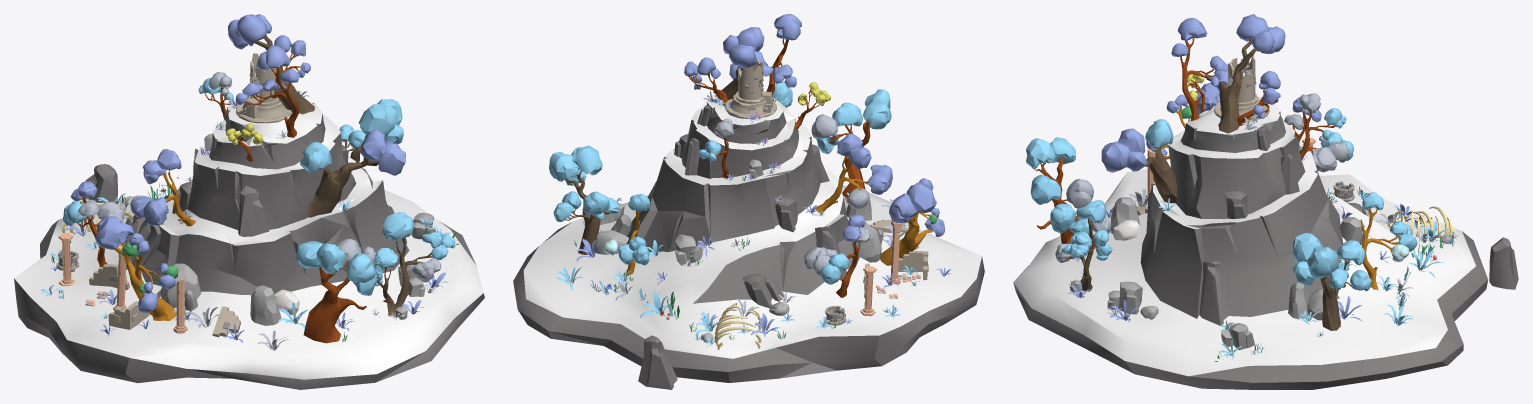
The model's file is islands4-B1gl973A.glb.
The picture shows the model from 3 angles, left to right: view 1: azimuth 30°, elevation 25°; view 2: azimuth 150°, elevation 25°; view 3: azimuth 270°, elevation 25°; orthographic projection. The views are drawn at different scales.
Visible parts, largest first — view 1: Plane.014_108, Cube.016_14, Cube.070_68, Cylinder.002_87, Mball.005_126, Mball.112_122, Mball.021_112, Mball.004_116, Cube.076_265, Mball.001_125, Icosphere.003_96, Mball.035_2 (+21 smaller); view 2: Plane.014_108, Cylinder.002_87, Mball.005_126, Cube.080_270, Mball.035_2, Mball.001_125, Mball.112_122, Mball.004_116, Cube.013_11, Mball.061_167, Cube.038_39, Cube.074_260 (+17 smaller); view 3: Plane.014_108, Mball.005_126, Cube.077_266, Mball.021_112, Cube.015_81, Mball.001_125, Cube.080_270, Cylinder.002_87, Mball.004_116, Mball.112_122, Cube.070_68, Cube.038_39 (+20 smaller).
Boxes of the visible parts, bbox=[...] form: Plane.014_108: bbox=[14, 100, 484, 389]; Cube.016_14: bbox=[303, 265, 366, 343]; Cube.070_68: bbox=[306, 157, 378, 217]; Cylinder.002_87: bbox=[236, 53, 291, 123]; Mball.005_126: bbox=[358, 99, 403, 143]; Mball.112_122: bbox=[236, 45, 299, 104]; Mball.021_112: bbox=[360, 129, 405, 175]; Mball.004_116: bbox=[296, 241, 345, 274]; Cube.076_265: bbox=[238, 186, 269, 236]; Mball.001_125: bbox=[228, 14, 271, 49]; Icosphere.003_96: bbox=[250, 285, 281, 325]; Mball.035_2: bbox=[95, 215, 133, 249]; Plane.014_108: bbox=[513, 91, 984, 382]; Cylinder.002_87: bbox=[725, 59, 776, 118]; Mball.005_126: bbox=[549, 145, 602, 185]; Cube.080_270: bbox=[638, 335, 677, 389]; Mball.035_2: bbox=[889, 182, 936, 222]; Mball.001_125: bbox=[723, 27, 764, 68]; Mball.112_122: bbox=[763, 14, 801, 87]; Mball.004_116: bbox=[863, 89, 891, 129]; Cube.013_11: bbox=[880, 211, 933, 265]; Mball.061_167: bbox=[837, 134, 871, 168]; Cube.038_39: bbox=[565, 170, 609, 254]; Cube.074_260: bbox=[742, 274, 772, 308]; Plane.014_108: bbox=[1013, 99, 1488, 389]; Mball.005_126: bbox=[1292, 233, 1338, 285]; Cube.077_266: bbox=[1199, 261, 1228, 325]; Mball.021_112: bbox=[1101, 128, 1147, 172]; Cube.015_81: bbox=[1205, 38, 1259, 133]; Mball.001_125: bbox=[1236, 14, 1285, 53]; Cube.080_270: bbox=[1489, 237, 1518, 289]; Cylinder.002_87: bbox=[1214, 55, 1269, 122]; Mball.004_116: bbox=[1026, 137, 1076, 169]; Mball.112_122: bbox=[1171, 18, 1228, 86]; Cube.070_68: bbox=[1145, 146, 1177, 203]; Cube.038_39: bbox=[1320, 276, 1340, 330].
Bounding box in the file's own units: 142 × 94.32 × 150.
